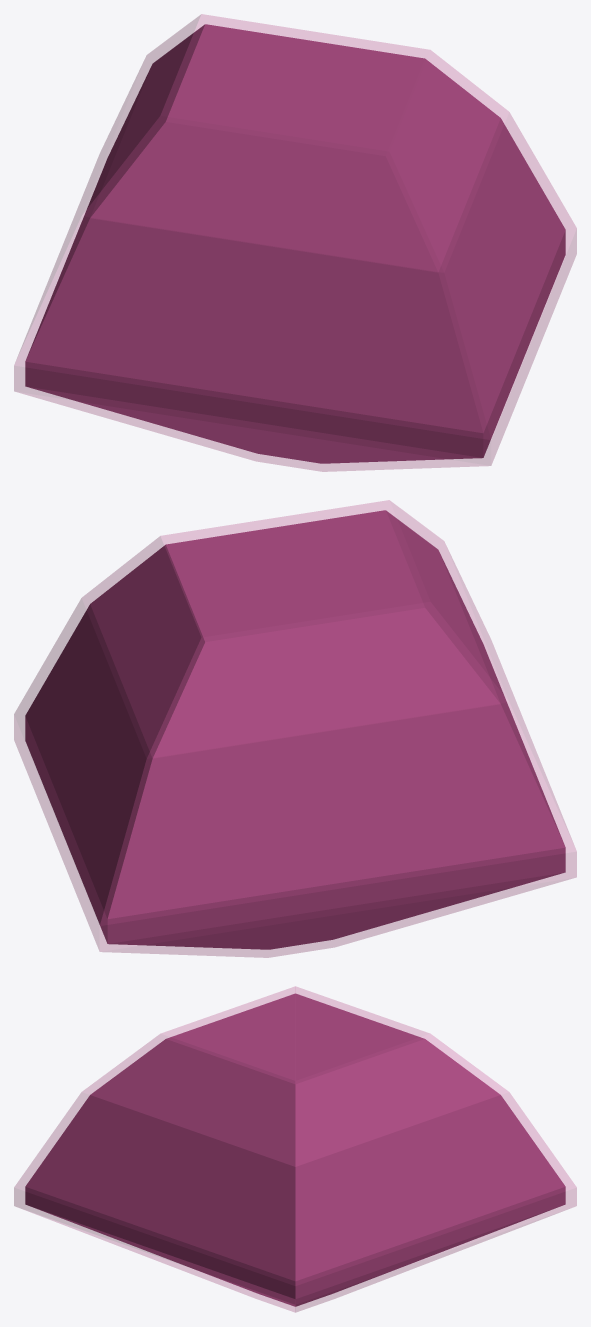
The model's file is item_item212.glb.
3 views of the same model, one above another, from view 1: azimuth 30°, elevation 25°; view 2: azimuth 150°, elevation 25°; view 3: azimuth 270°, elevation 25° (orthographic). The views are drawn at different scales.
Visible parts, largest first — view 1: jewellery_item212_glass, jewellery_item212; view 2: jewellery_item212_glass, jewellery_item212; view 3: jewellery_item212_glass, jewellery_item212.
Part boxes in pixels (x1,y1,x2,y2): jewellery_item212_glass: [14, 14, 576, 471]; jewellery_item212: [25, 24, 565, 463]; jewellery_item212_glass: [14, 500, 576, 957]; jewellery_item212: [25, 510, 565, 949]; jewellery_item212_glass: [14, 986, 576, 1312]; jewellery_item212: [25, 993, 565, 1306].
Bounding box in the file's own units: 0.83 × 0.52 × 1.
